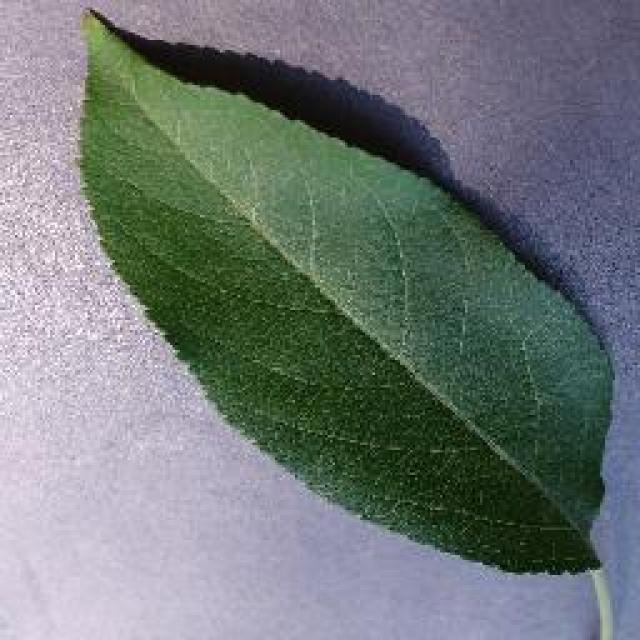App_healthy: (119, 110, 534, 505)
